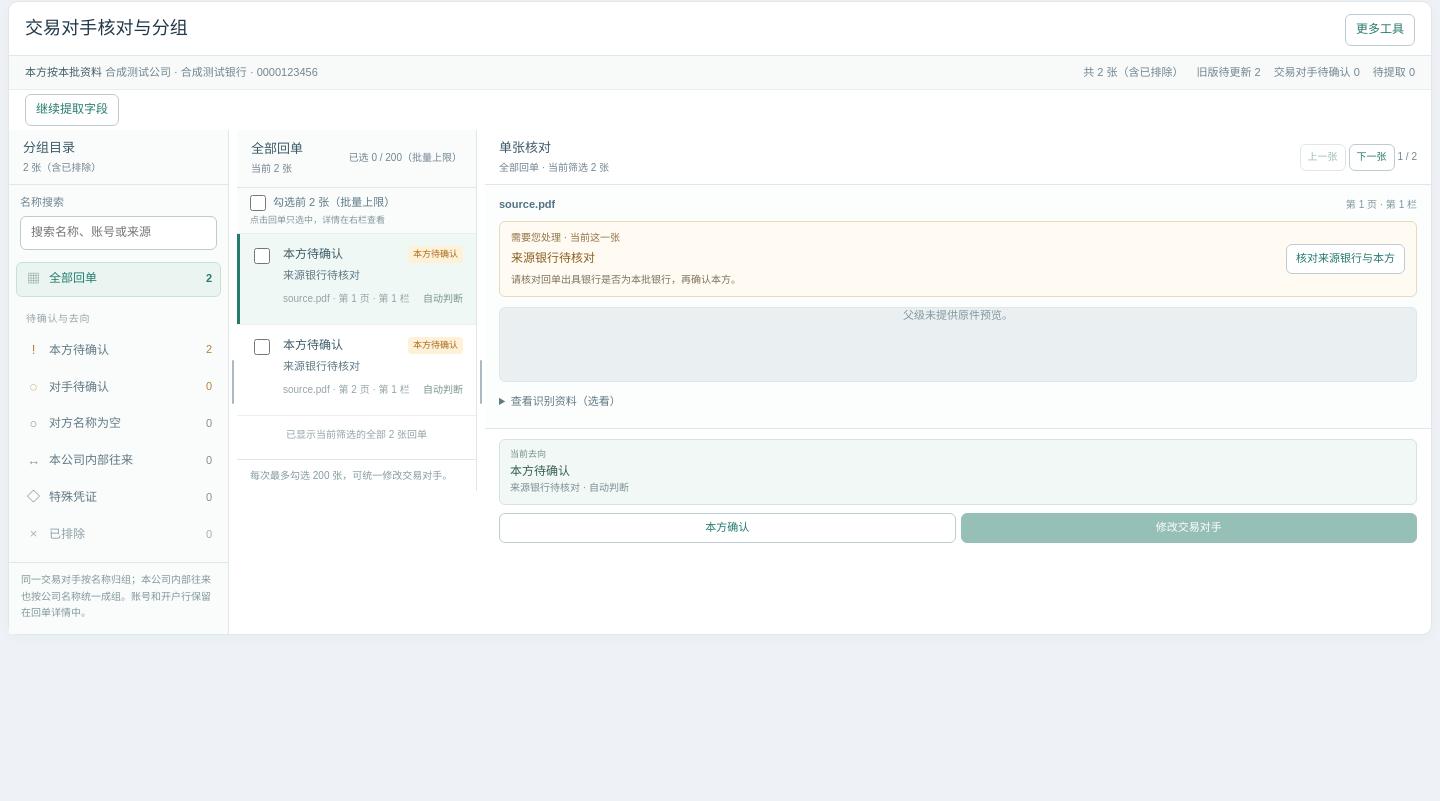
Scenario: ReceiptGroupingPanel › 切换未选中的待确认片段会清空上一张的本方确认上下文
Click the button "本方确认".
click(727, 528)  # box x1=499 y1=513 x2=956 y2=543
(page scrolled)
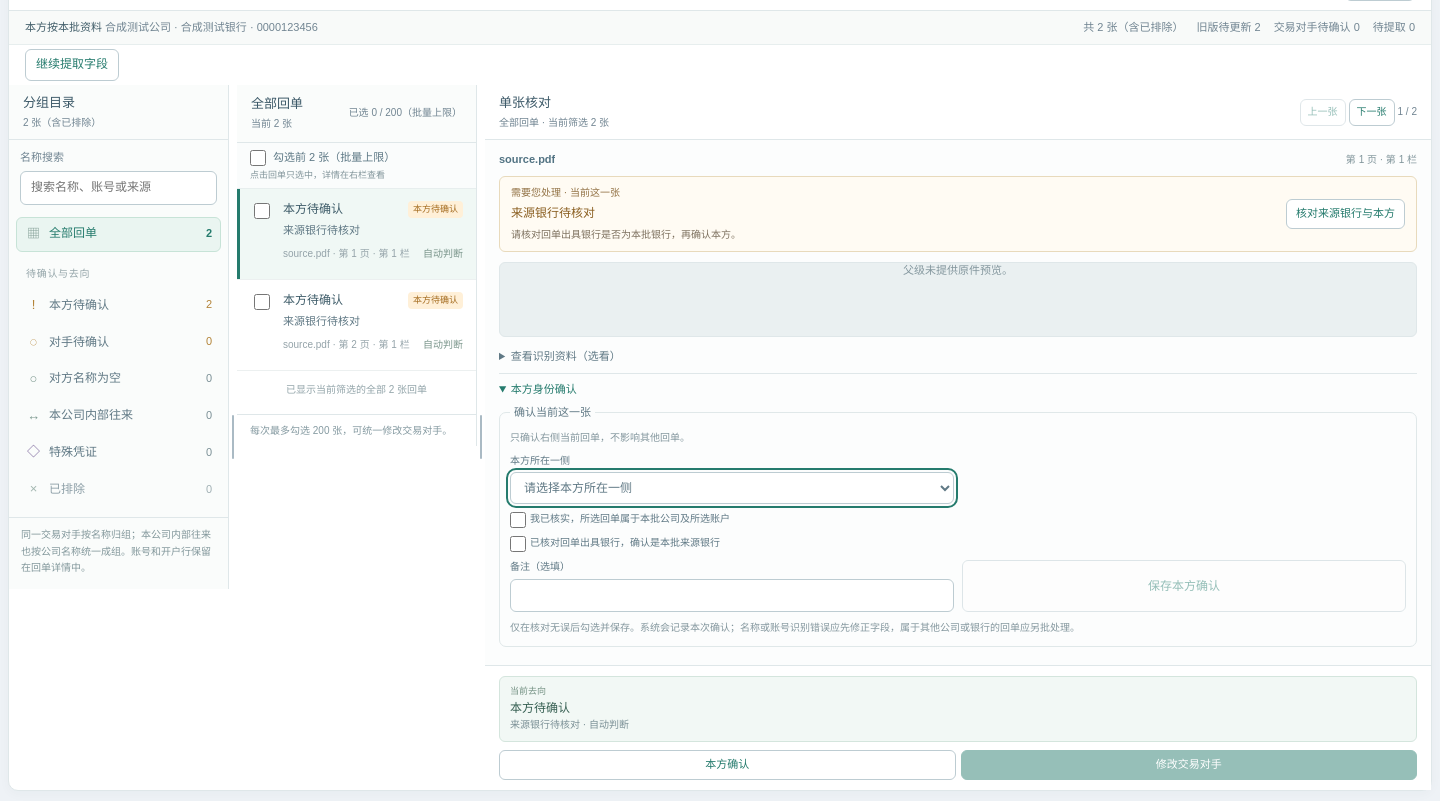
Click the checkbox labelled "我已核实，所选回单属于本批公司及所选账户".
click(518, 520)  # box x1=510 y1=512 x2=526 y2=528
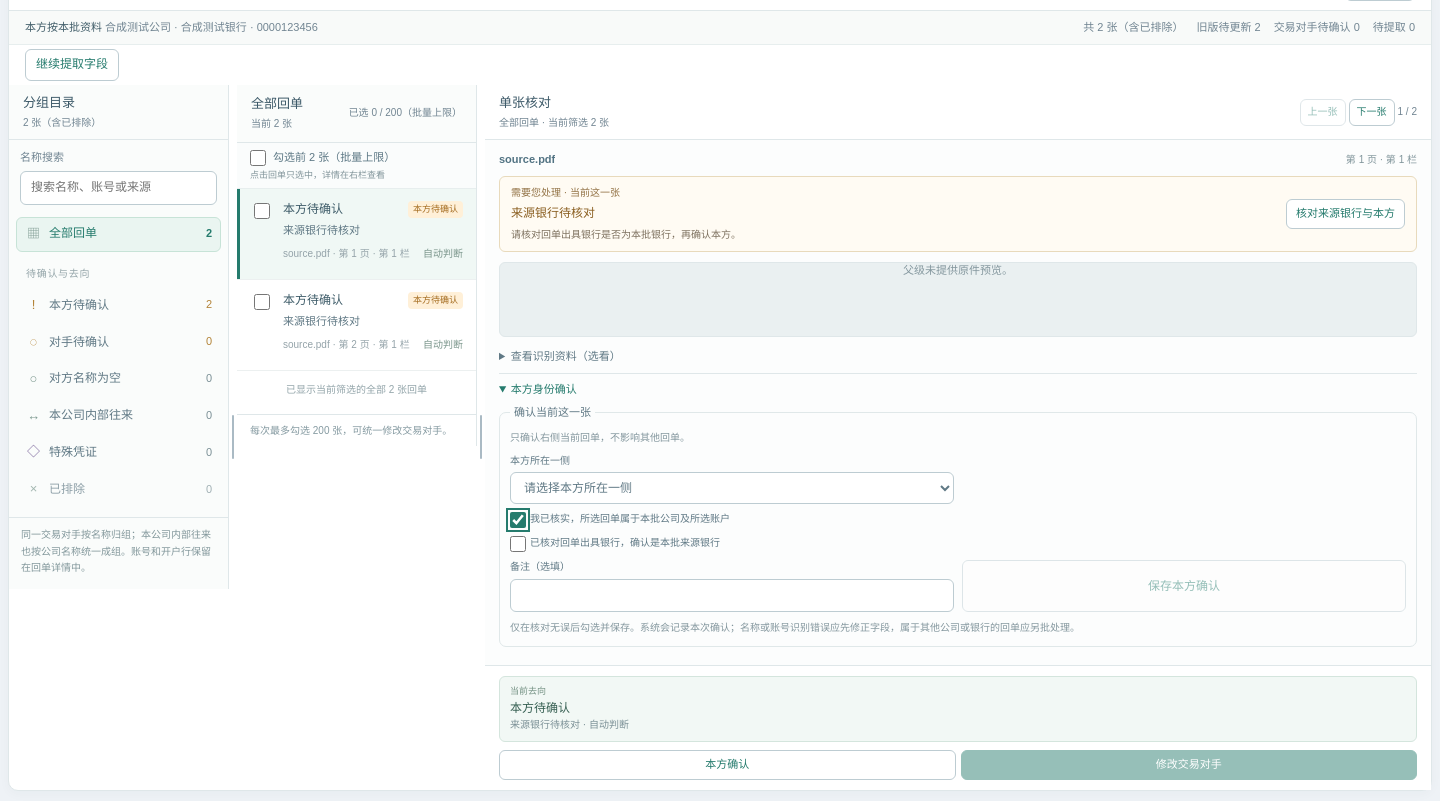
Click the checkbox labelled "已核对回单出具银行，确认是本批来源银行".
click(518, 544)  # box x1=510 y1=536 x2=526 y2=552
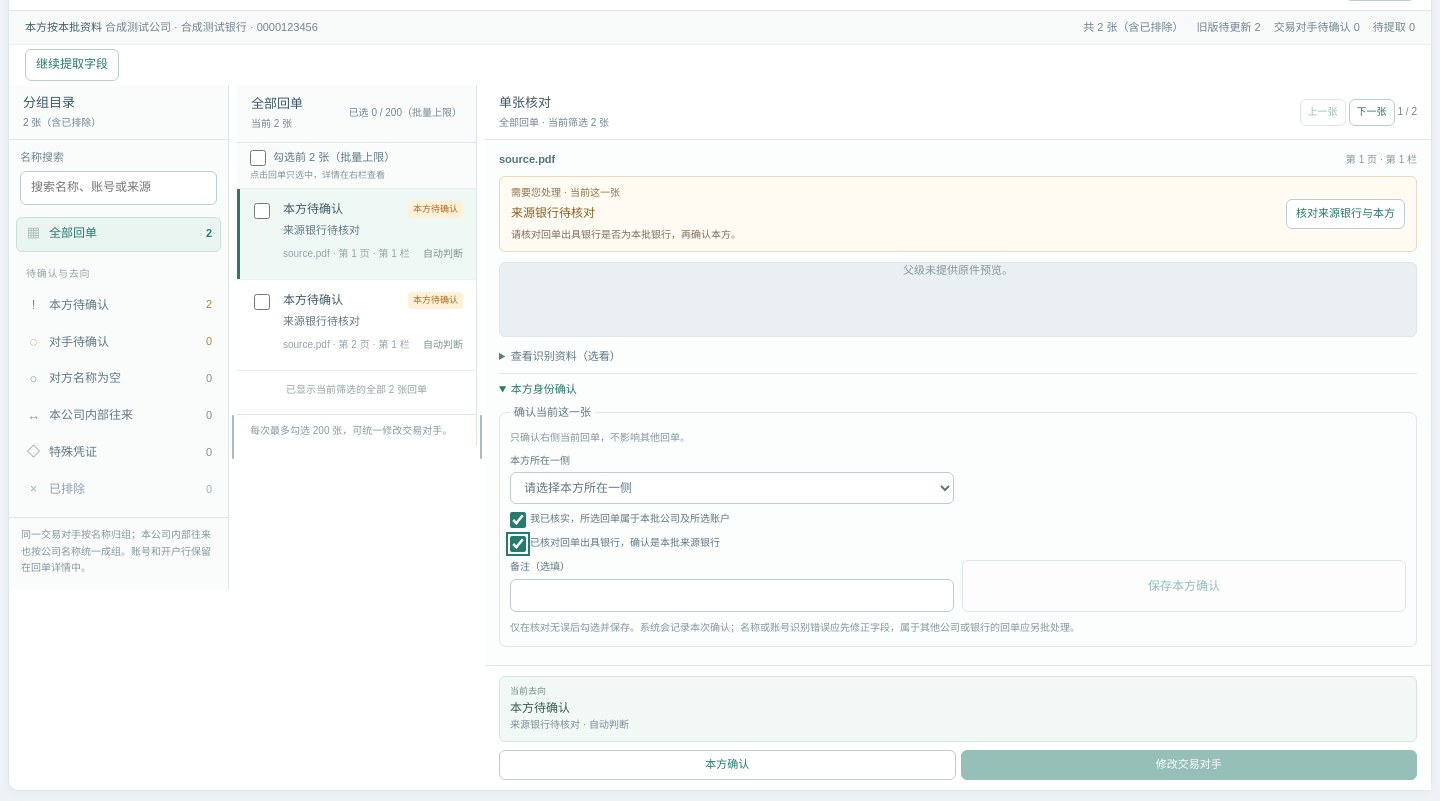
Type "第一张依据" into the field named "本方确认备注".
click(732, 596); type("第一张依据")  # box x1=510 y1=579 x2=954 y2=612
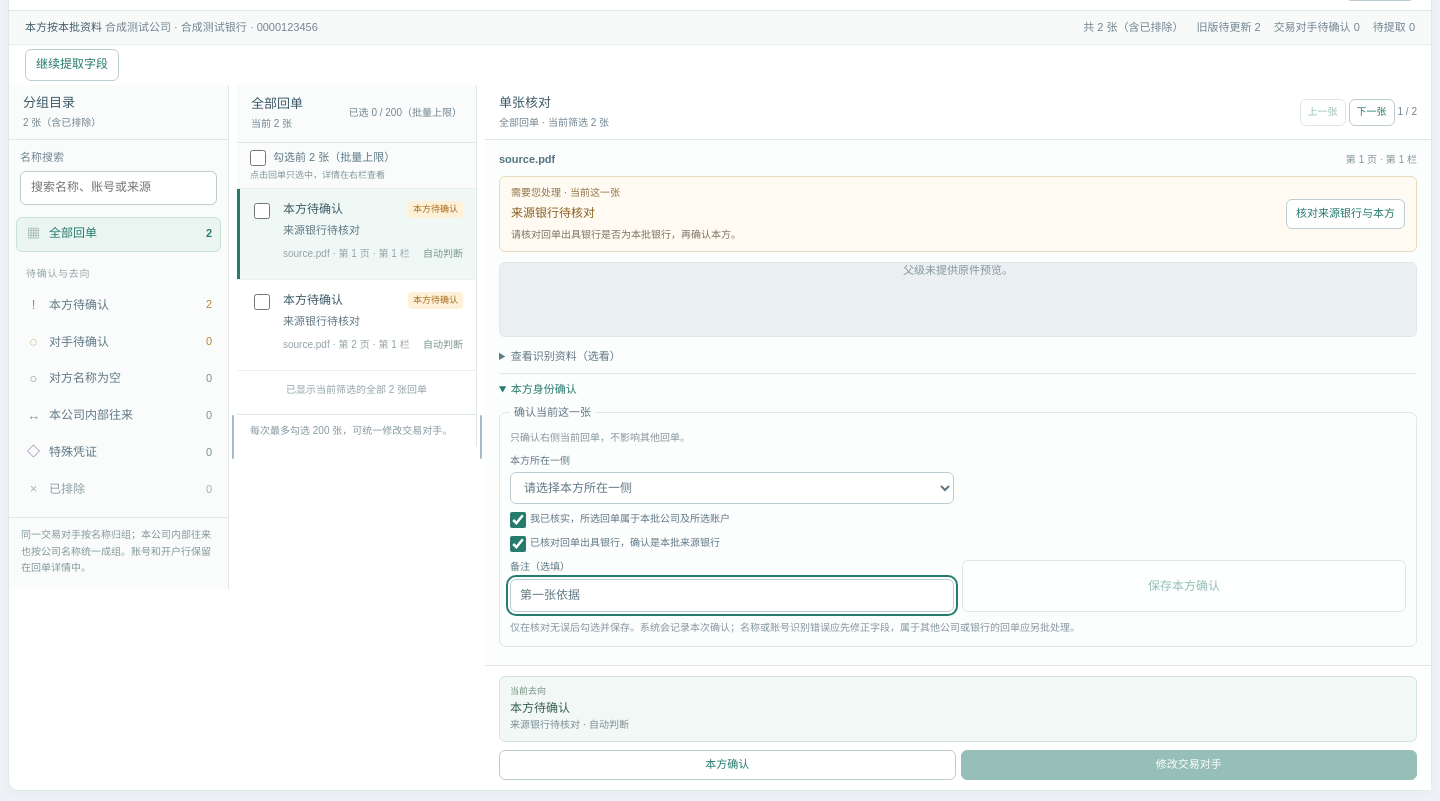
Click the text "source.pdf · 第 2 页 · 第 1 栏 自动判断".
click(373, 346)  # box x1=283 y1=338 x2=463 y2=353
(page scrolled)
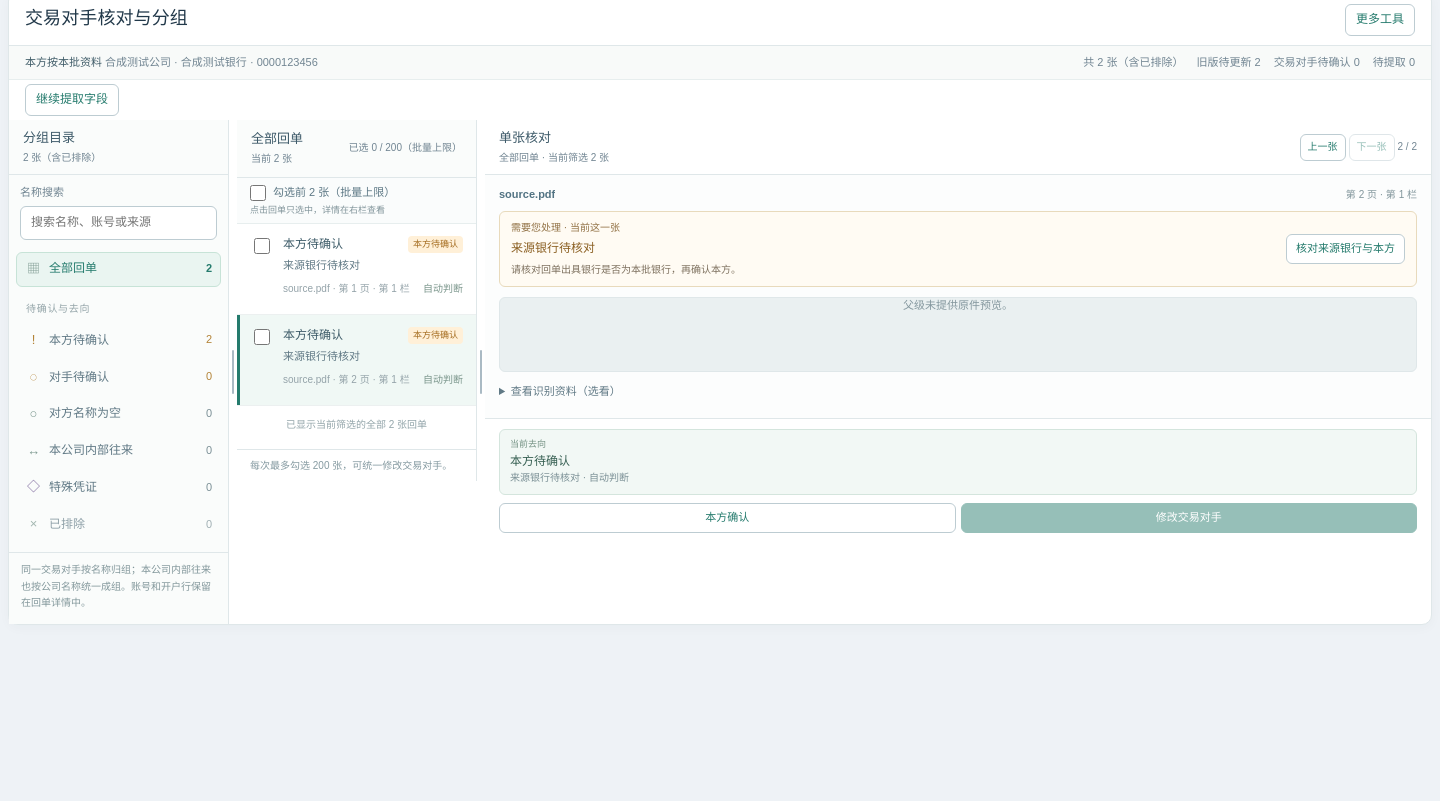
Now the field labelled "本方确认备注" is gone
Click the button "本方确认".
click(727, 518)  # box x1=499 y1=503 x2=956 y2=533
(page scrolled)
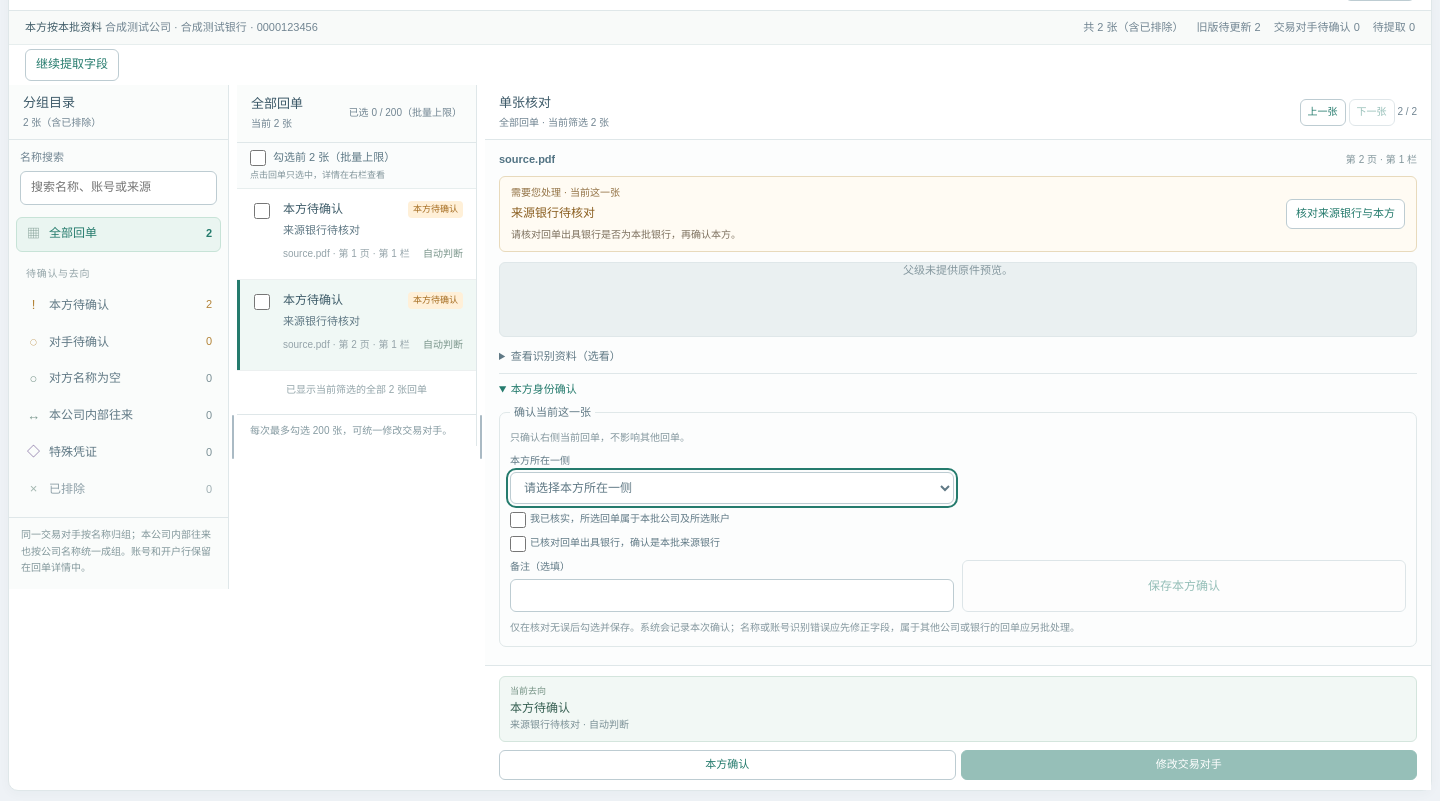
Expected: the field named "本方确认备注" is empty, x1=510 y1=579 x2=954 y2=612
Now the checkbox labelled "我已核实，所选回单属于本批公司及所选账户" is not checked, box x1=510 y1=512 x2=526 y2=528
Now the checkbox labelled "已核对回单出具银行，确认是本批来源银行" is not checked, box x1=510 y1=536 x2=526 y2=552
